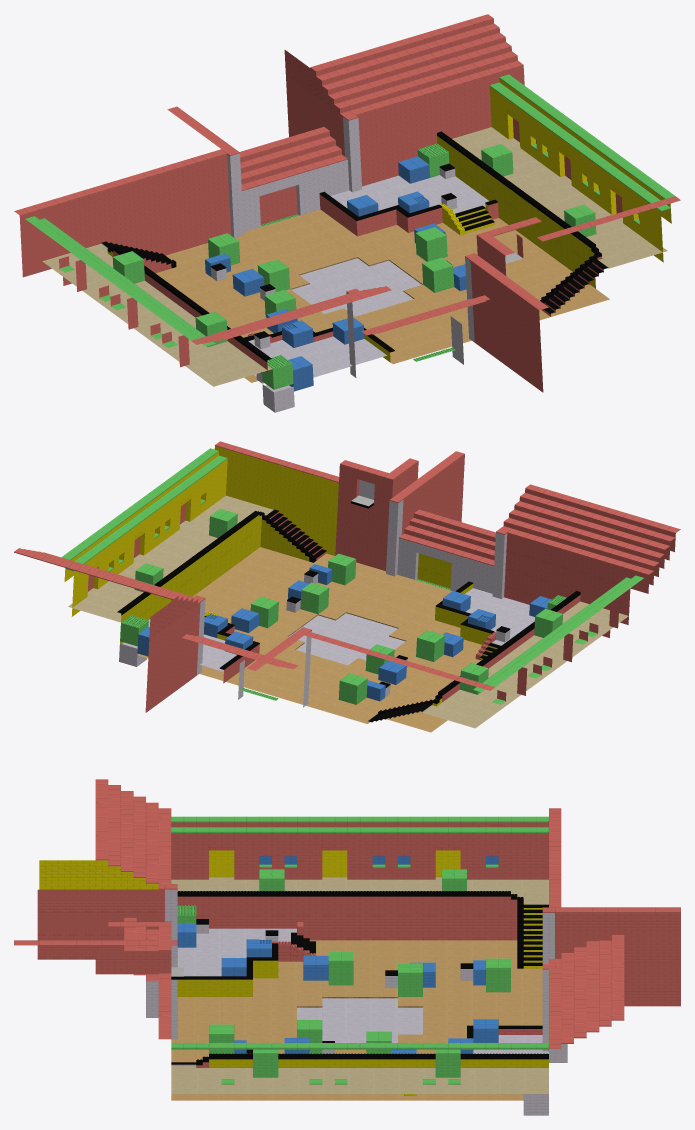
Rendered from Alley Bricks.glb.
The picture shows the model from 3 angles, top to bottom: view 1: azimuth 30°, elevation 25°; view 2: azimuth 150°, elevation 25°; view 3: azimuth 270°, elevation 25°; orthographic projection. The views are drawn at different scales.
Visible parts, largest first — view 1: Alley Bricks.001; view 2: Alley Bricks.001; view 3: Alley Bricks.001.
Boxes of the visible parts, box(x1,y1,x2,y2) form: Alley Bricks.001: box(14, 14, 680, 412); Alley Bricks.001: box(14, 441, 680, 732); Alley Bricks.001: box(14, 779, 680, 1115).
Bounding box in the file's own units: 51.17 × 14.1 × 53.
22 materials, 22 textured.
